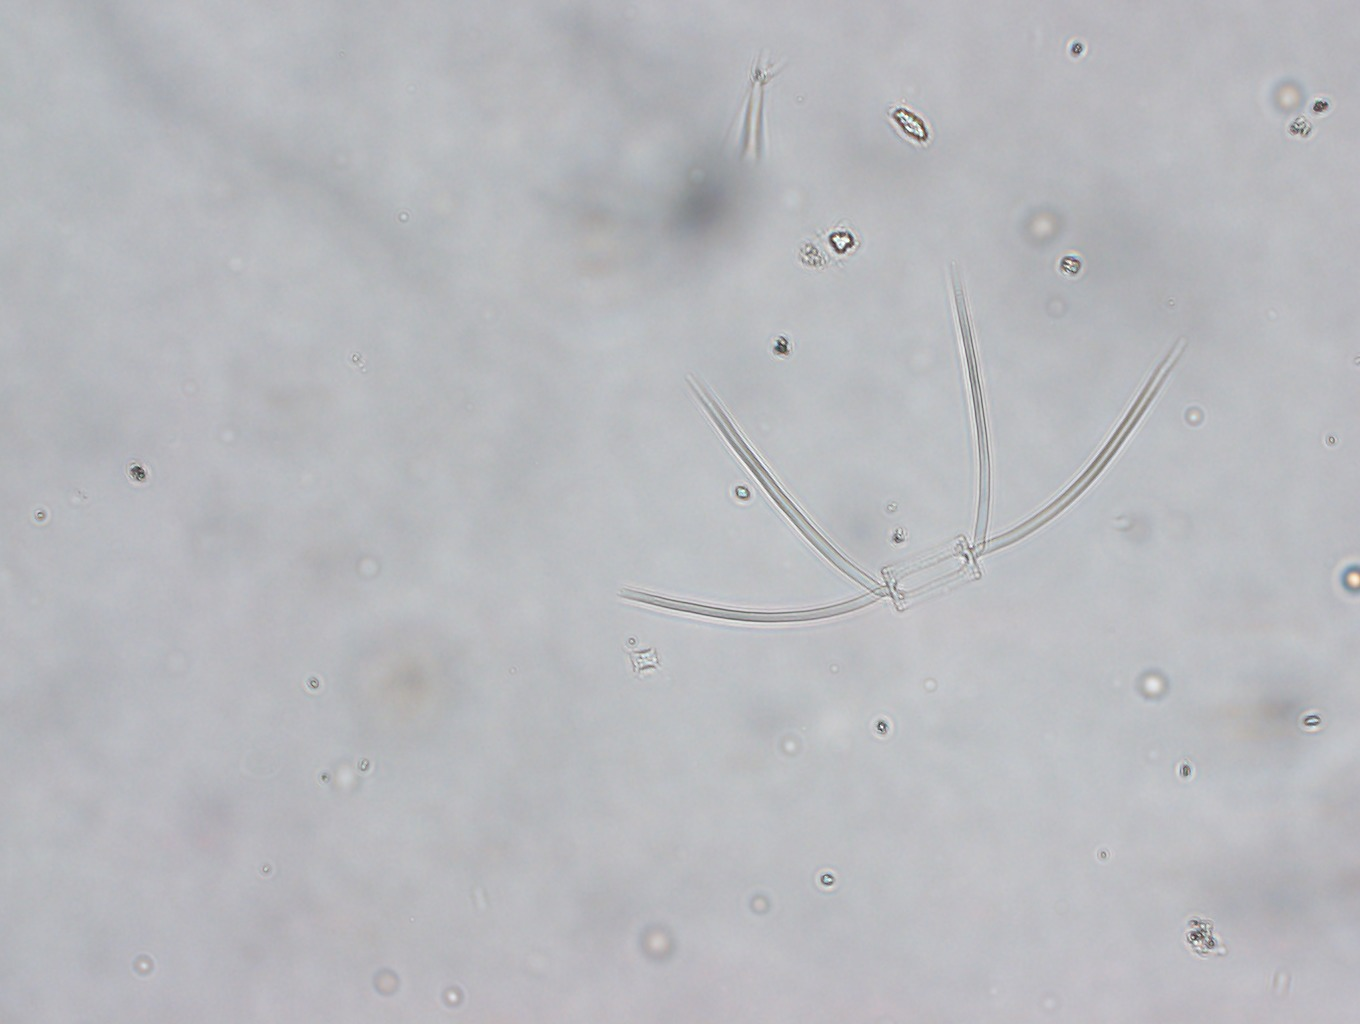chaetoceros: (609, 247, 1191, 629)
